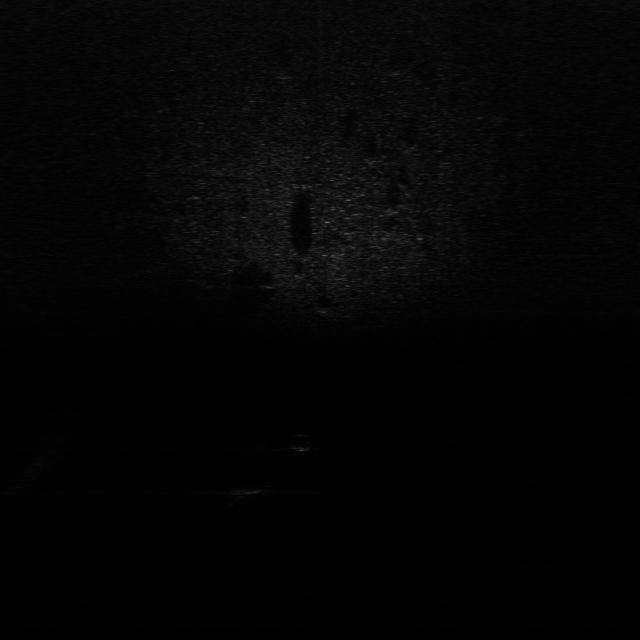ball: (284, 431, 318, 454)
square cage: (220, 478, 280, 504)
